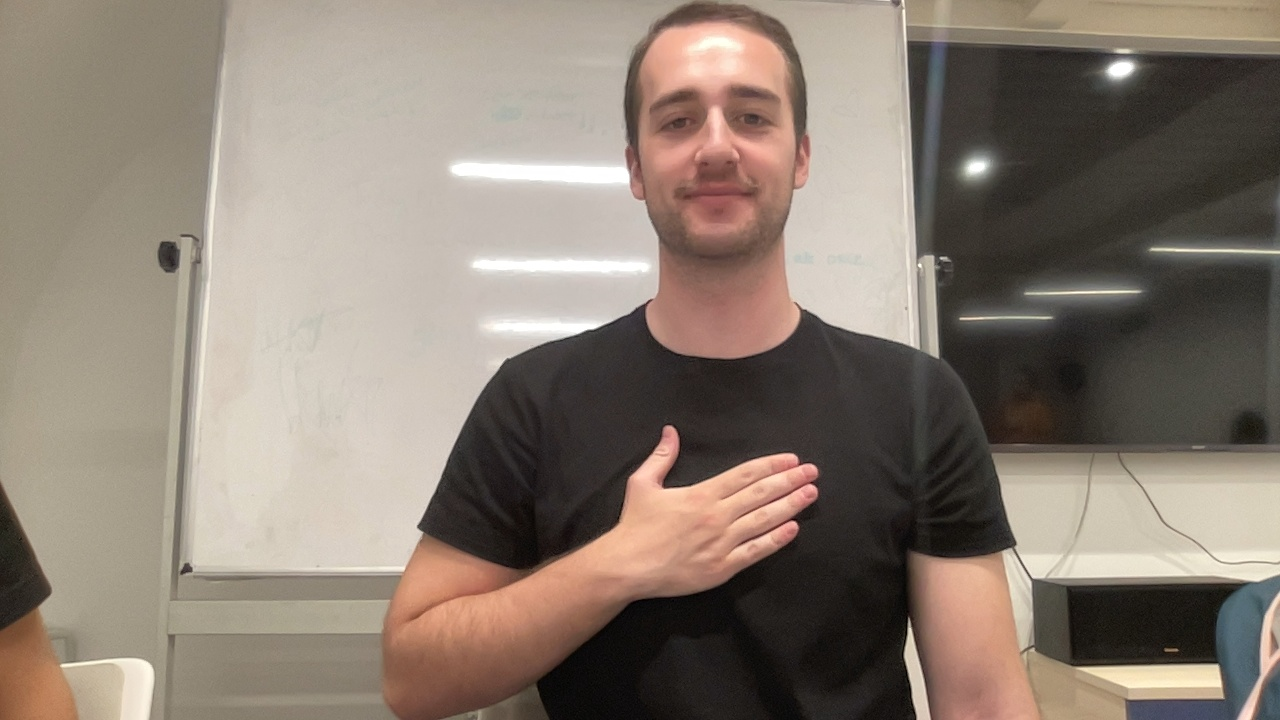Please: (384, 420, 824, 716)
